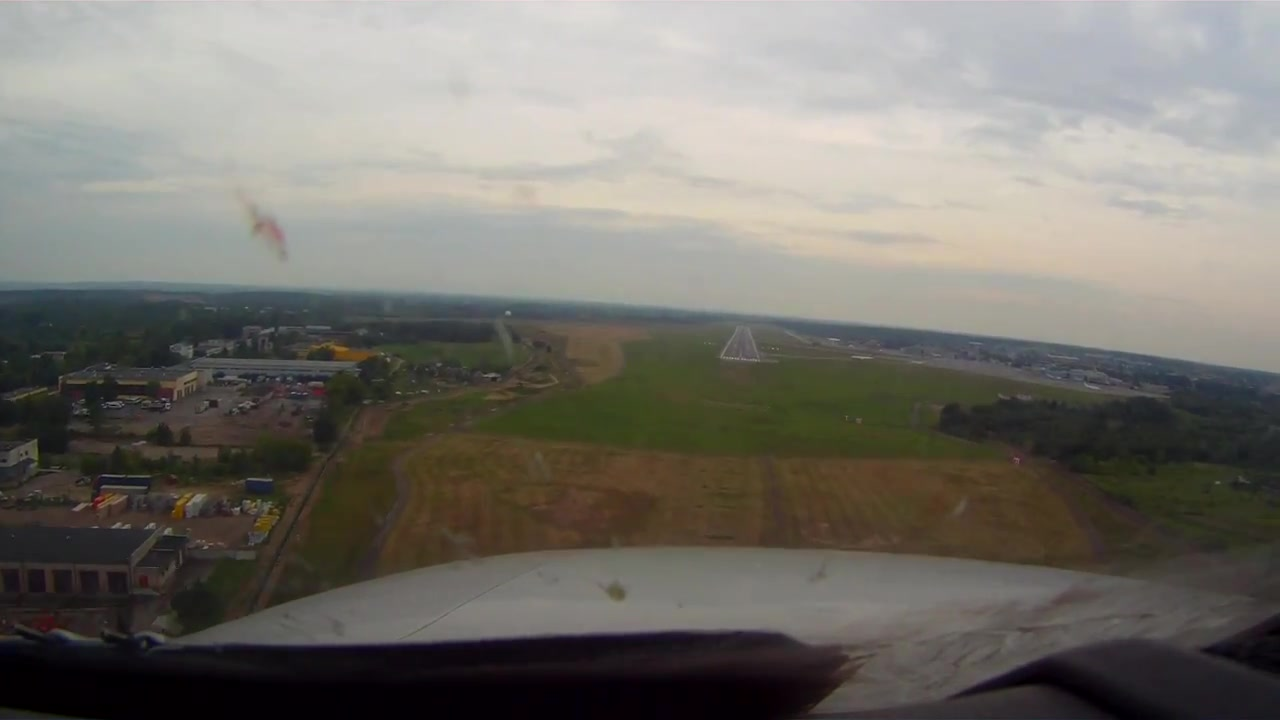runway: (721, 326, 761, 364)
